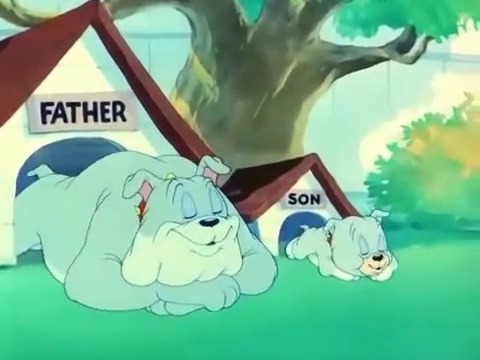spike: (120, 154, 249, 288)
